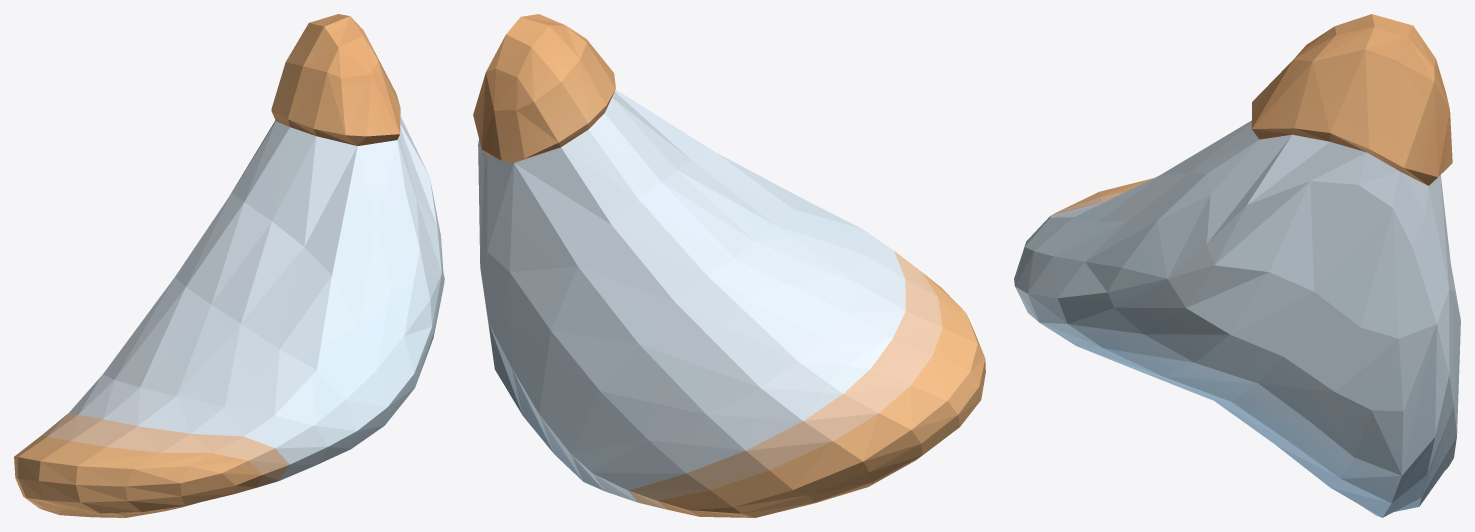
File: CharSkyKid_Horn_AP27ManateeFins.glb
The picture shows the model from 3 angles, left to right: view 1: azimuth 30°, elevation 25°; view 2: azimuth 150°, elevation 25°; view 3: azimuth 270°, elevation 25°; orthographic projection. The views are drawn at different scales.
Visible parts, largest first — view 1: CharSkyKid_Horn_AP27ManateeFins; view 2: CharSkyKid_Horn_AP27ManateeFins; view 3: CharSkyKid_Horn_AP27ManateeFins.
Boxes of the visible parts, x1,y1,x2,y2 form: CharSkyKid_Horn_AP27ManateeFins: [14, 14, 444, 517]; CharSkyKid_Horn_AP27ManateeFins: [473, 14, 985, 517]; CharSkyKid_Horn_AP27ManateeFins: [1014, 14, 1460, 517].
Size of the model in its own units: 1.28 by 1.3 by 0.9461.
Materials: 1 (1 with a texture image).
